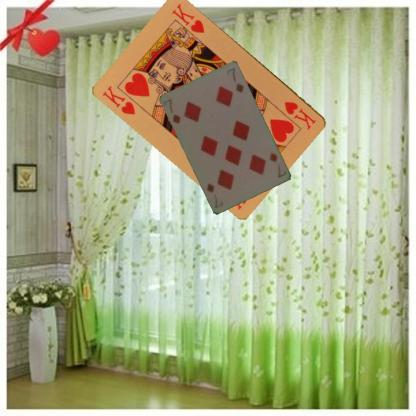7d: (267, 150, 288, 179), (161, 96, 182, 125)
Kh: (281, 98, 318, 131), (100, 83, 137, 116)
